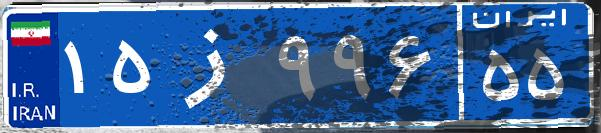1: (57, 26, 110, 107)
5: (475, 38, 525, 113), (110, 28, 158, 105), (525, 38, 570, 115)
6: (385, 28, 445, 110)
9: (273, 28, 330, 110), (330, 28, 385, 110)
ز: (158, 15, 273, 115)
